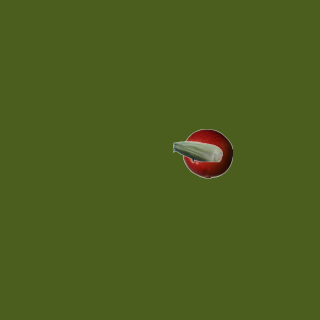Apple Braeburn: (182, 128, 232, 178)
Corn Husk: (172, 126, 222, 176)
